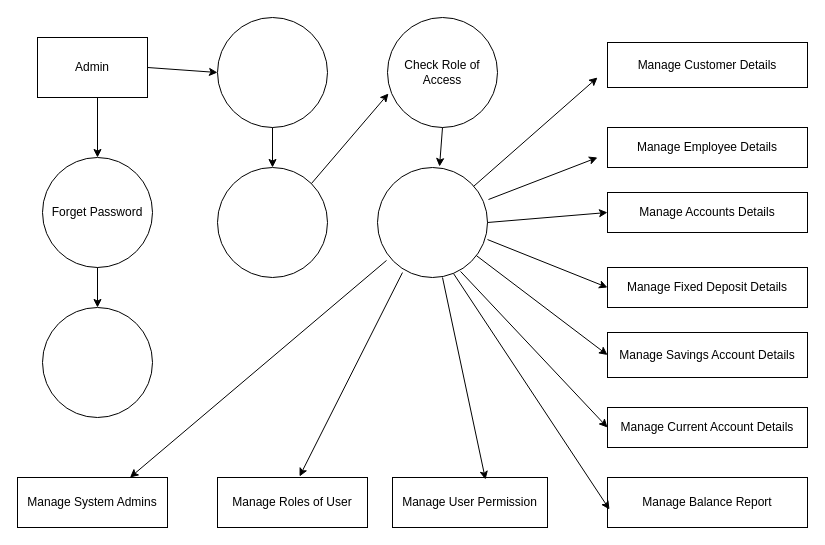
Some shapes in this 825 by 545 pixel diagram are drawn without their labels. The centre of each missing label's shape, as x and y in pixels:
Check Credential: pixel 272 222
Login to the System: pixel 272 72
Manage Modules: pixel 432 222
Send Email to User: pixel 97 362
